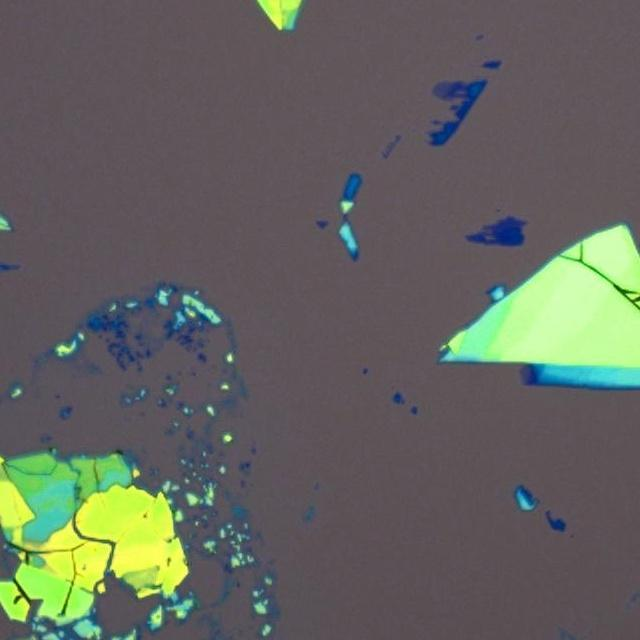monolayer-eWW4: (432, 78, 449, 98), (519, 365, 531, 383)
